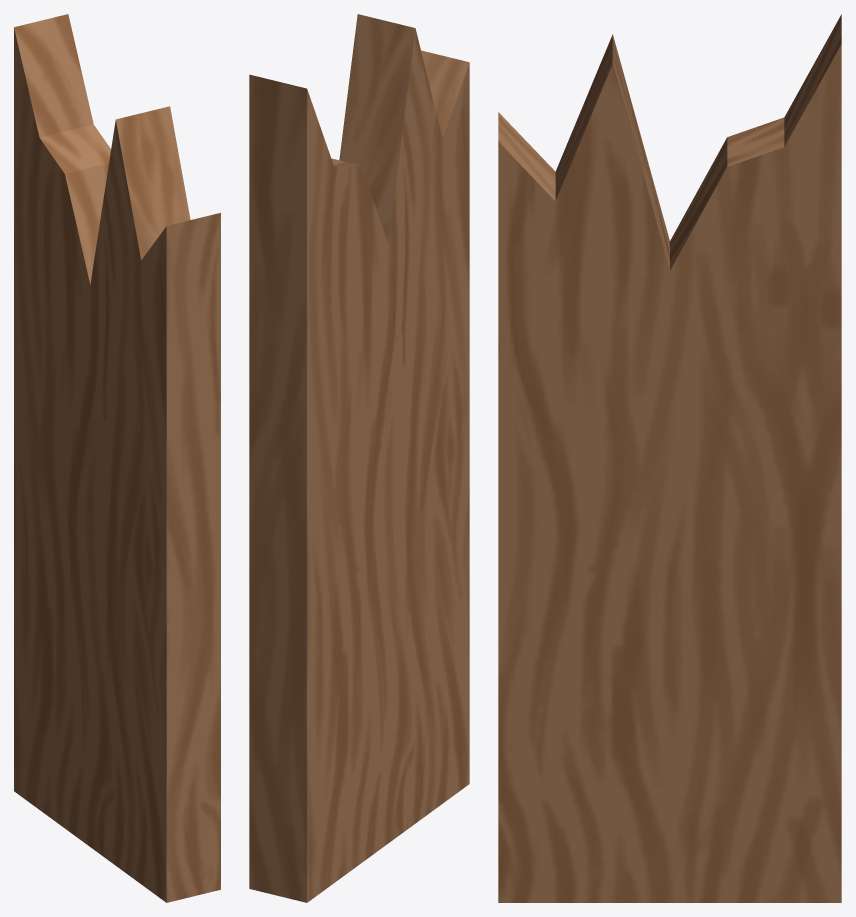
Rendered from Retazo de madera.fbx.
3 renders of one model, left to right at view 1: azimuth 30°, elevation 25°; view 2: azimuth 150°, elevation 25°; view 3: azimuth 270°, elevation 25°, orthographic. The views are drawn at different scales.
Parts seen in each view (by area): view 1: Cube.024; view 2: Cube.024; view 3: Cube.024.
Boxes of the visible parts, <box> form: Cube.024: <box>14,14,220,902</box>; Cube.024: <box>249,14,469,902</box>; Cube.024: <box>498,14,841,902</box>.
Bounding box in the file's own units: 2.7 × 36.34 × 13.16.
Materials: 1 (1 with a texture image).
